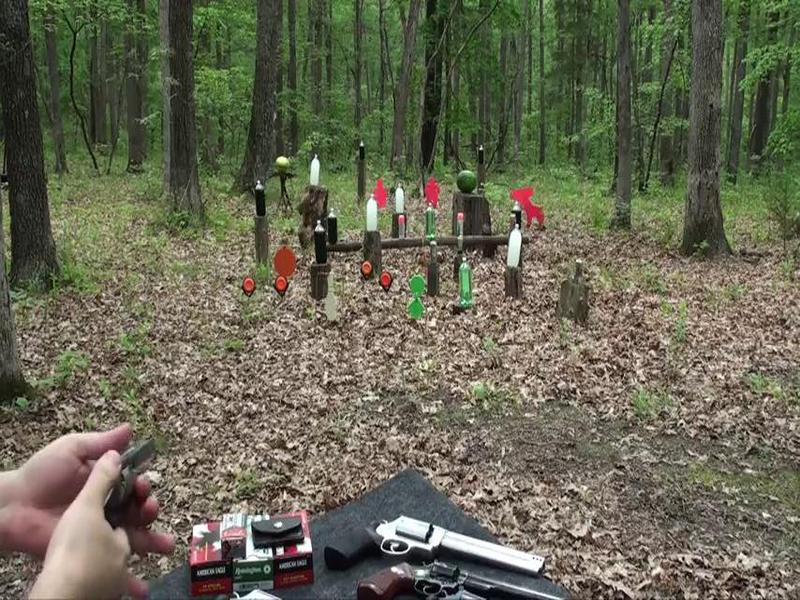Revolver: (73, 412, 187, 546)
